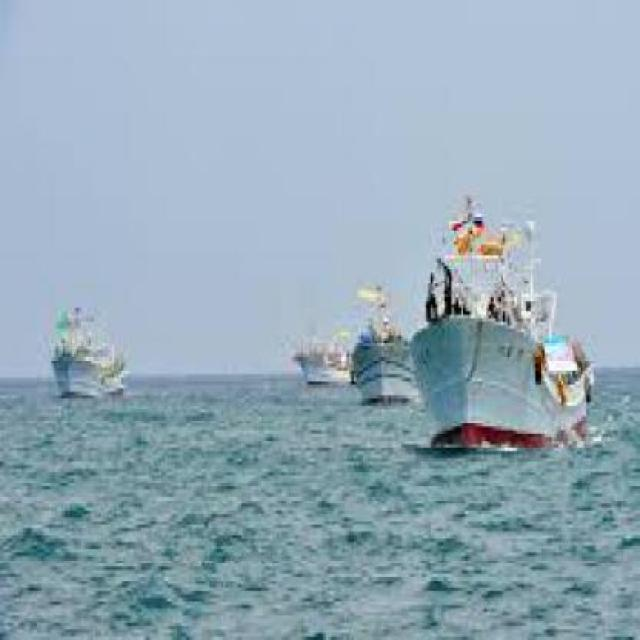fish-b: (411, 197, 613, 473), (341, 266, 429, 414), (31, 288, 131, 409)
